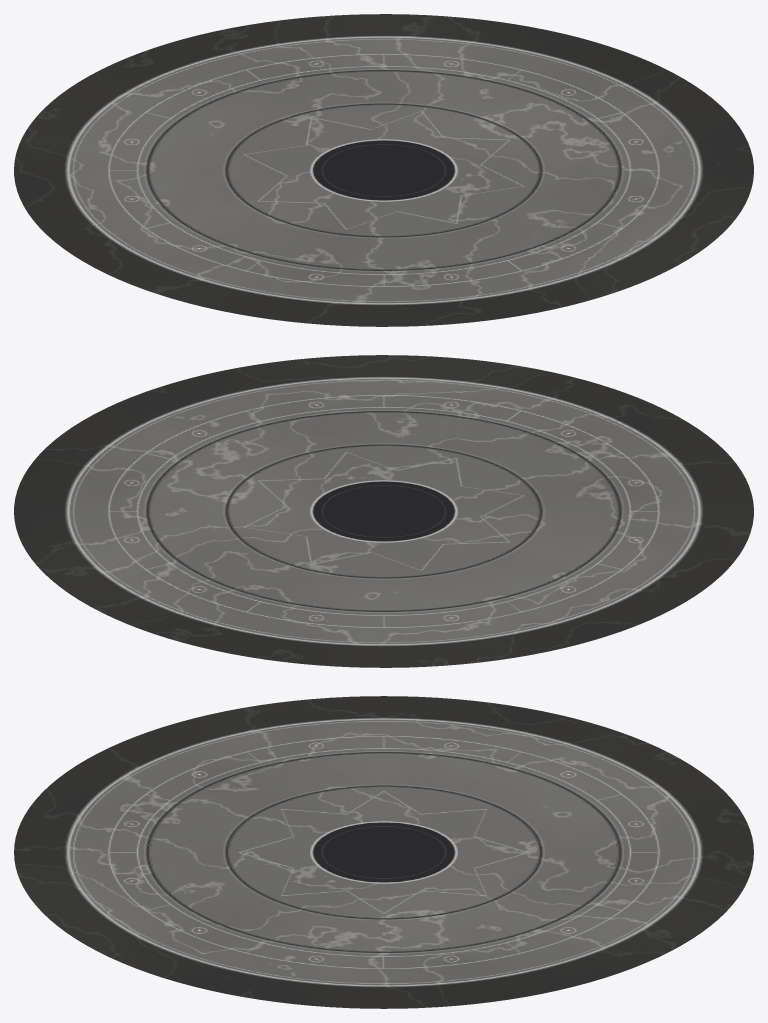
Rendered from chamber_floor.glb.
3 views of the same model, one above another, from view 1: azimuth 30°, elevation 25°; view 2: azimuth 150°, elevation 25°; view 3: azimuth 270°, elevation 25° (orthographic).
Visible parts, largest first — view 1: floor; view 2: floor; view 3: floor.
Boxes of the visible parts, bbox=[...] form: floor: bbox=[14, 14, 753, 326]; floor: bbox=[14, 355, 753, 667]; floor: bbox=[14, 696, 753, 1008].
Bounding box in the file's own units: 46.8 × 0 × 46.8.
1 material, 1 textured.
